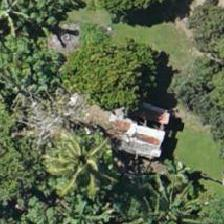Kelapa_Sawit: (36, 114, 126, 204)
